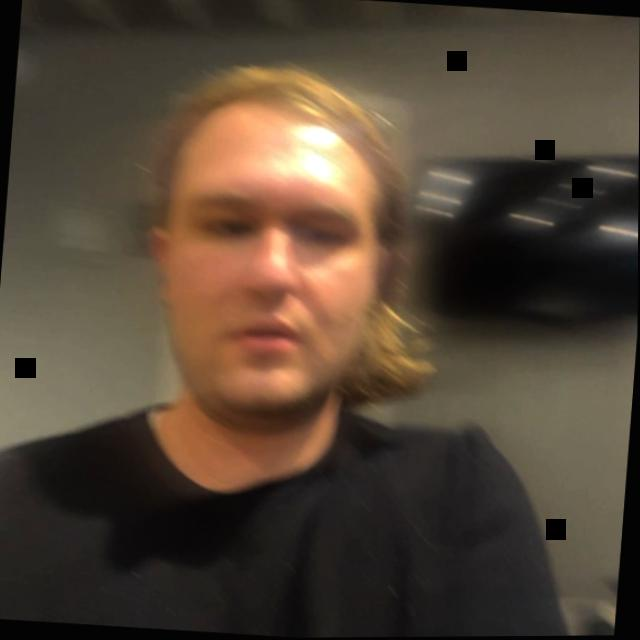NO-Mask: (121, 36, 436, 506)
